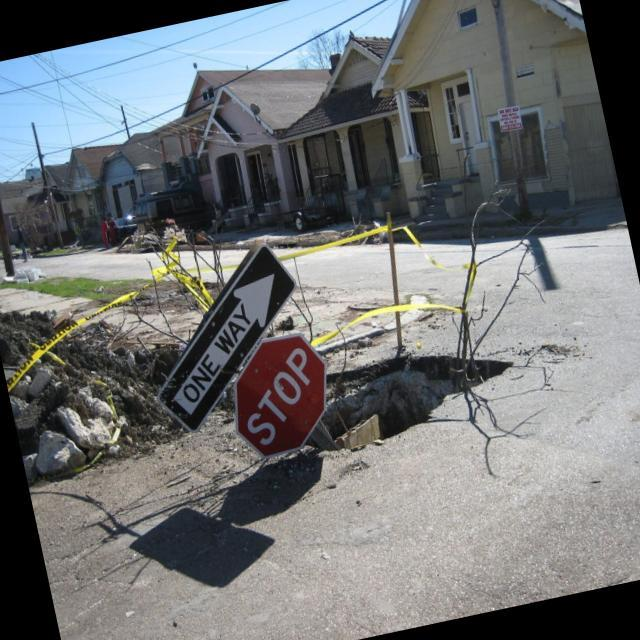Pothole: (283, 302, 540, 492)
